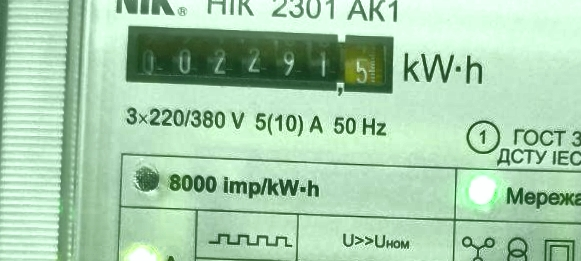0: (137, 45, 156, 74), (175, 45, 192, 75)
1: (314, 47, 329, 81)
2: (210, 46, 227, 75), (245, 44, 260, 74)
5: (352, 54, 369, 84)
9: (279, 47, 296, 77)
screen: (120, 19, 398, 100)
